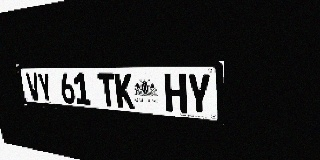1: (72, 73, 91, 105)
6: (58, 73, 76, 104)
H: (164, 73, 187, 113)
K: (114, 73, 135, 109)
T: (97, 73, 117, 107)
V: (25, 73, 42, 101)
Y: (187, 73, 211, 115), (37, 73, 53, 102)
